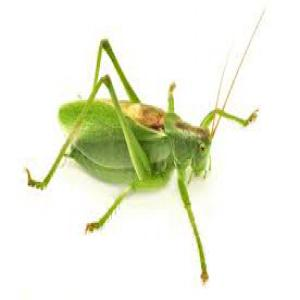locust: (55, 31, 257, 257)
